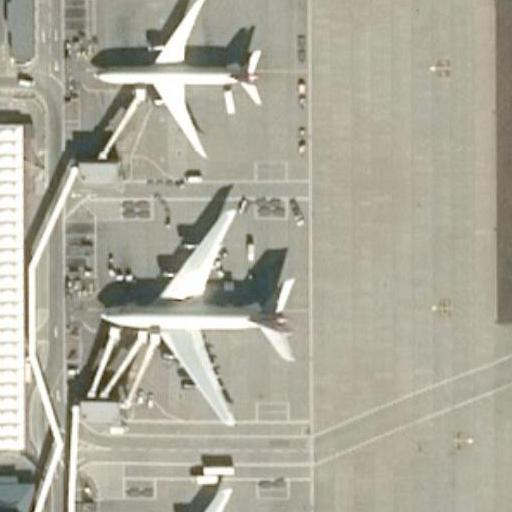Aircraft: (97, 200, 299, 418), (91, 0, 265, 153), (93, 485, 303, 512)
